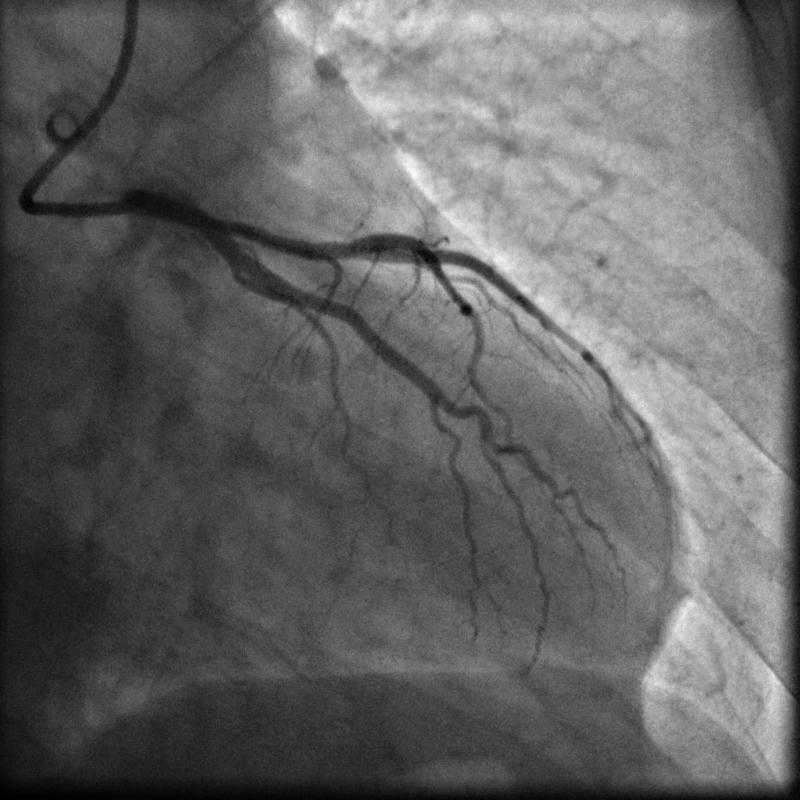Stenosis: (210, 211, 248, 242)
